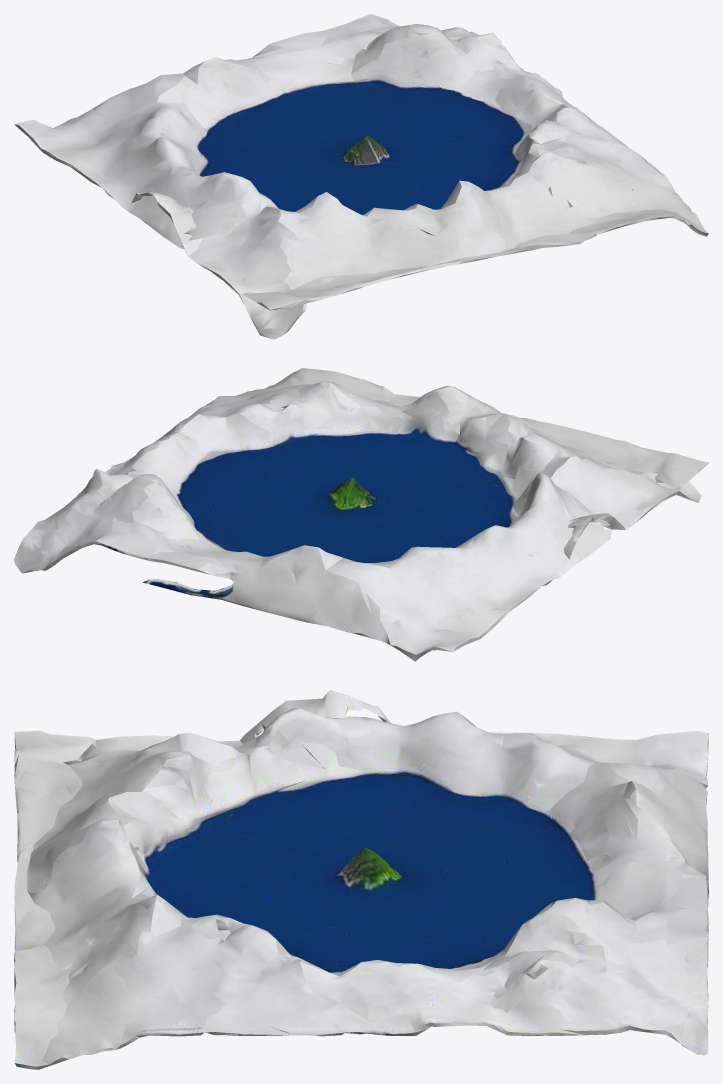
Rendered from lake-mashu.glb.
3 views of the same model, one above another, from view 1: azimuth 30°, elevation 25°; view 2: azimuth 150°, elevation 25°; view 3: azimuth 270°, elevation 25° (orthographic). The views are drawn at different scales.
Visible parts, largest first — view 1: logan-textured.obj; view 2: logan-textured.obj; view 3: logan-textured.obj.
Part boxes in pixels (x1,y1,x2,y2): logan-textured.obj: (14, 14, 708, 339); logan-textured.obj: (14, 368, 708, 661); logan-textured.obj: (14, 690, 708, 1069).
Size of the model in its own units: 0.9997 by 0.2523 by 1.
Materials: 1 (1 with a texture image).
